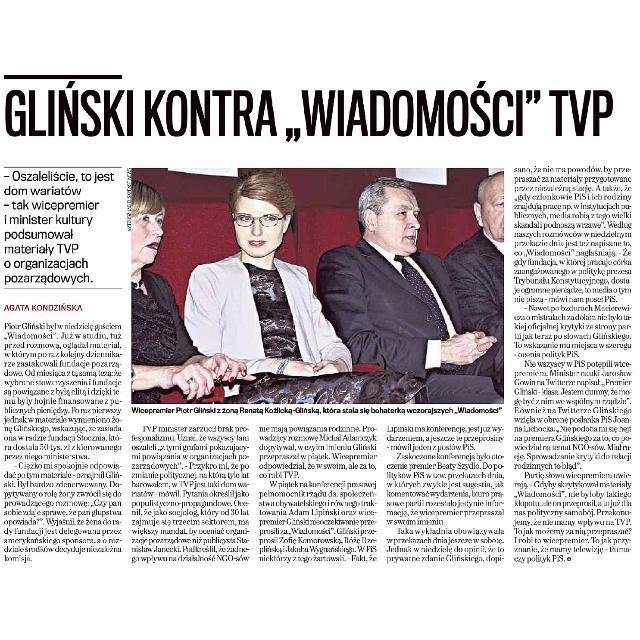author: (4, 300, 84, 314)
body: (514, 163, 636, 565), (2, 320, 124, 566), (256, 422, 382, 564), (129, 421, 253, 565), (384, 421, 508, 565)
caption: (130, 404, 504, 416)
image: (126, 162, 508, 406)
lead: (2, 167, 120, 285)
title: (4, 78, 620, 146)
